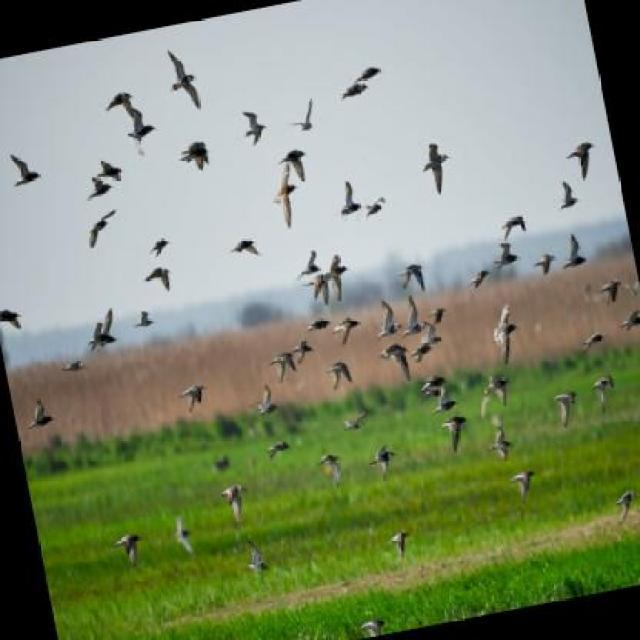Bird: (410, 129, 465, 213), (467, 300, 530, 372), (156, 50, 213, 118), (553, 122, 608, 187), (270, 161, 314, 233), (75, 303, 128, 361), (418, 406, 479, 456), (100, 525, 152, 583), (494, 464, 558, 508), (363, 335, 422, 382), (80, 206, 131, 260), (8, 139, 48, 205), (411, 371, 469, 416), (233, 537, 279, 593), (468, 418, 535, 456), (292, 249, 330, 316), (162, 515, 203, 576), (375, 516, 419, 572), (318, 245, 356, 309), (552, 229, 595, 285), (314, 299, 363, 347), (482, 233, 530, 282), (215, 229, 271, 271), (545, 186, 599, 229), (310, 444, 347, 506), (395, 249, 439, 301), (260, 343, 304, 393), (363, 442, 405, 494), (316, 352, 362, 398), (239, 380, 289, 422), (546, 386, 591, 432), (473, 371, 523, 412), (232, 102, 274, 150), (361, 300, 406, 344), (358, 174, 398, 223), (103, 116, 162, 149), (174, 131, 219, 174), (218, 480, 256, 530), (165, 379, 213, 418), (289, 98, 329, 144), (334, 181, 370, 232), (140, 261, 193, 295), (20, 390, 60, 435), (489, 205, 534, 245), (602, 479, 640, 524), (128, 302, 166, 347), (343, 55, 397, 86), (58, 349, 96, 393), (589, 275, 626, 320), (387, 300, 433, 336), (395, 331, 452, 360), (591, 369, 622, 422), (572, 323, 609, 366), (81, 175, 126, 210), (529, 240, 563, 285), (274, 146, 314, 182), (95, 155, 136, 190), (103, 88, 146, 121), (459, 259, 498, 295), (340, 409, 386, 439), (146, 228, 184, 264), (261, 435, 303, 466), (210, 446, 251, 475), (292, 308, 333, 337), (336, 80, 377, 109), (0, 298, 25, 341), (290, 332, 322, 362), (232, 463, 236, 464)
